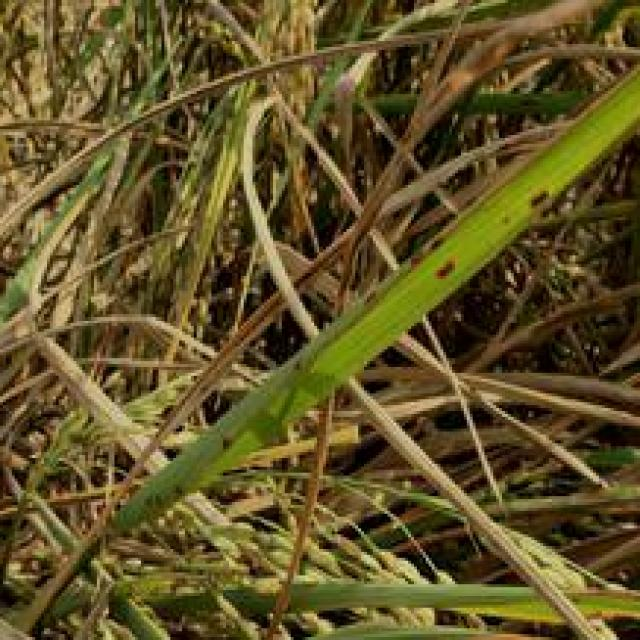Brown_Spot: (522, 170, 566, 214), (426, 244, 470, 282), (208, 426, 246, 452)
